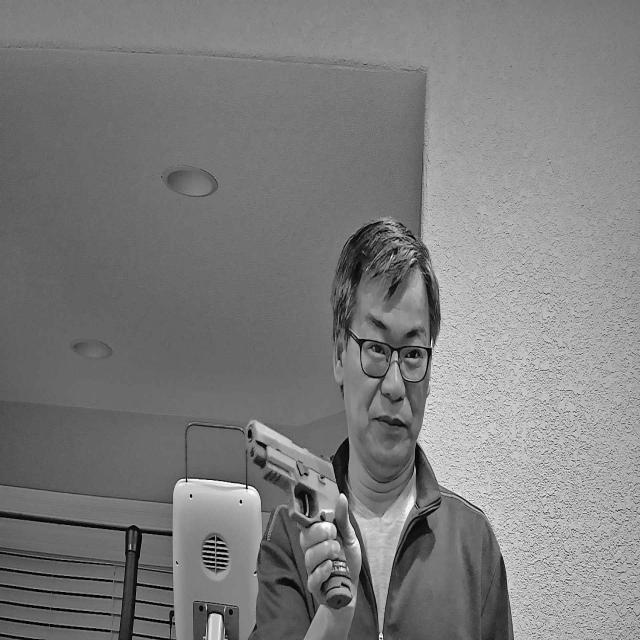Hand-Gun: (237, 414, 362, 618)
